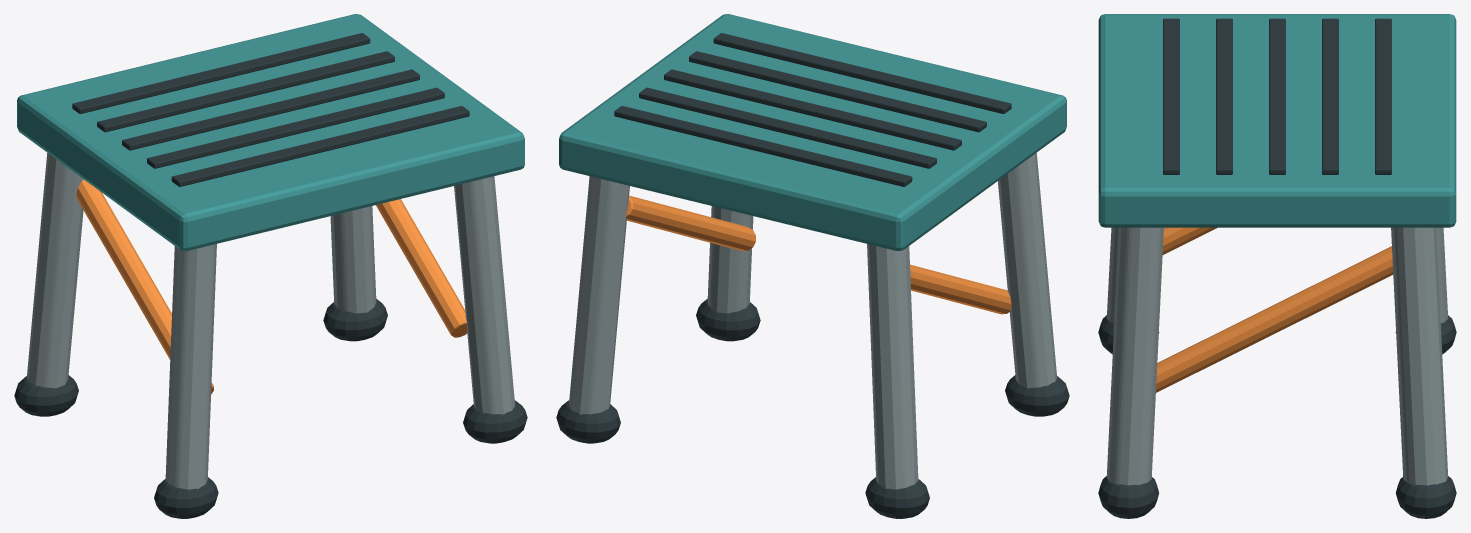
Rendered from P097_folding_step.glb.
3 views of the same model, side by side, from view 1: azimuth 30°, elevation 25°; view 2: azimuth 150°, elevation 25°; view 3: azimuth 270°, elevation 25° (orthographic). The views are drawn at different scales.
Parts seen in each view (by area): view 1: P097_top_001, P097_leg_002, P097_leg_006, P097_leg_004, P097_brace_010, P097_leg_008, P097_nonslip_012, P097_nonslip_014, P097_nonslip_016, P097_nonslip_013, P097_nonslip_015, P097_brace_011 (+4 smaller); view 2: P097_top_001, P097_leg_004, P097_leg_008, P097_leg_002, P097_nonslip_014, P097_nonslip_016, P097_nonslip_012, P097_nonslip_015, P097_nonslip_013, P097_brace_011, P097_leg_006, P097_brace_010 (+4 smaller); view 3: P097_top_001, P097_leg_006, P097_leg_008, P097_brace_011, P097_nonslip_012, P097_nonslip_013, P097_nonslip_014, P097_nonslip_015, P097_nonslip_016, P097_foot_007, P097_foot_009, P097_brace_010 (+4 smaller).
Boxes of the visible parts, left/top/right/bottom form: P097_top_001: left=17, top=14, right=524, bottom=250; P097_leg_002: left=165, top=244, right=216, bottom=489; P097_leg_006: left=454, top=176, right=514, bottom=414; P097_leg_004: left=26, top=153, right=83, bottom=388; P097_brace_010: left=76, top=179, right=213, bottom=394; P097_leg_008: left=330, top=206, right=376, bottom=313; P097_nonslip_012: left=171, top=106, right=469, bottom=186; P097_nonslip_014: left=122, top=69, right=419, bottom=150; P097_nonslip_016: left=72, top=33, right=370, bottom=113; P097_nonslip_013: left=147, top=87, right=444, bottom=168; P097_nonslip_015: left=97, top=51, right=394, bottom=132; P097_brace_011: left=376, top=199, right=467, bottom=337; P097_top_001: left=559, top=14, right=1066, bottom=250; P097_leg_004: left=867, top=244, right=918, bottom=489; P097_leg_008: left=569, top=176, right=629, bottom=414; P097_leg_002: left=997, top=153, right=1057, bottom=388; P097_nonslip_014: left=664, top=69, right=961, bottom=150; P097_nonslip_016: left=614, top=106, right=912, bottom=186; P097_nonslip_012: left=713, top=33, right=1011, bottom=113; P097_nonslip_015: left=639, top=87, right=936, bottom=168; P097_nonslip_013: left=689, top=51, right=986, bottom=132; P097_brace_011: left=626, top=195, right=755, bottom=251; P097_leg_006: left=707, top=206, right=753, bottom=313; P097_brace_010: left=910, top=264, right=1011, bottom=314; P097_top_001: left=1098, top=14, right=1456, bottom=227; P097_leg_006: left=1106, top=227, right=1163, bottom=485; P097_leg_008: left=1391, top=227, right=1448, bottom=485; P097_brace_011: left=1156, top=246, right=1393, bottom=392; P097_nonslip_012: left=1163, top=18, right=1179, bottom=174; P097_nonslip_013: left=1216, top=18, right=1232, bottom=174; P097_nonslip_014: left=1269, top=18, right=1285, bottom=174; P097_nonslip_015: left=1322, top=18, right=1338, bottom=174; P097_nonslip_016: left=1375, top=18, right=1391, bottom=174; P097_foot_007: left=1098, top=476, right=1158, bottom=518; P097_foot_009: left=1396, top=476, right=1456, bottom=518; P097_brace_010: left=1162, top=227, right=1217, bottom=254.
Bounding box in the file's own units: 0.3407 × 0.2835 × 0.2704.
